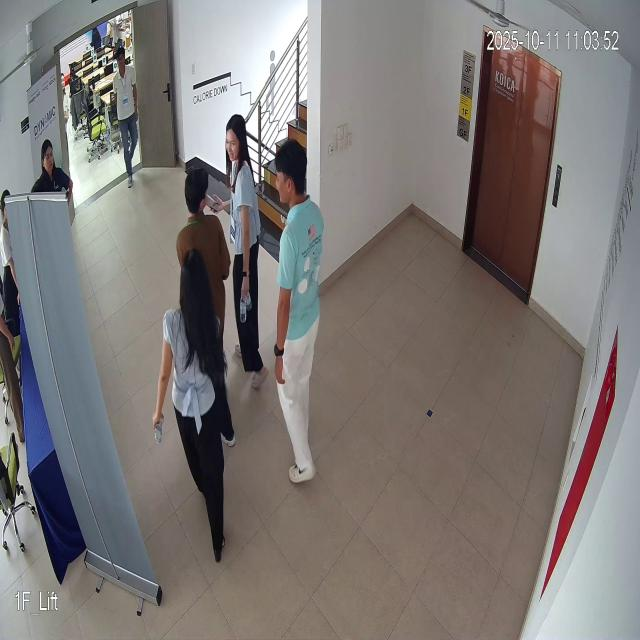face: (220, 113, 248, 165)
